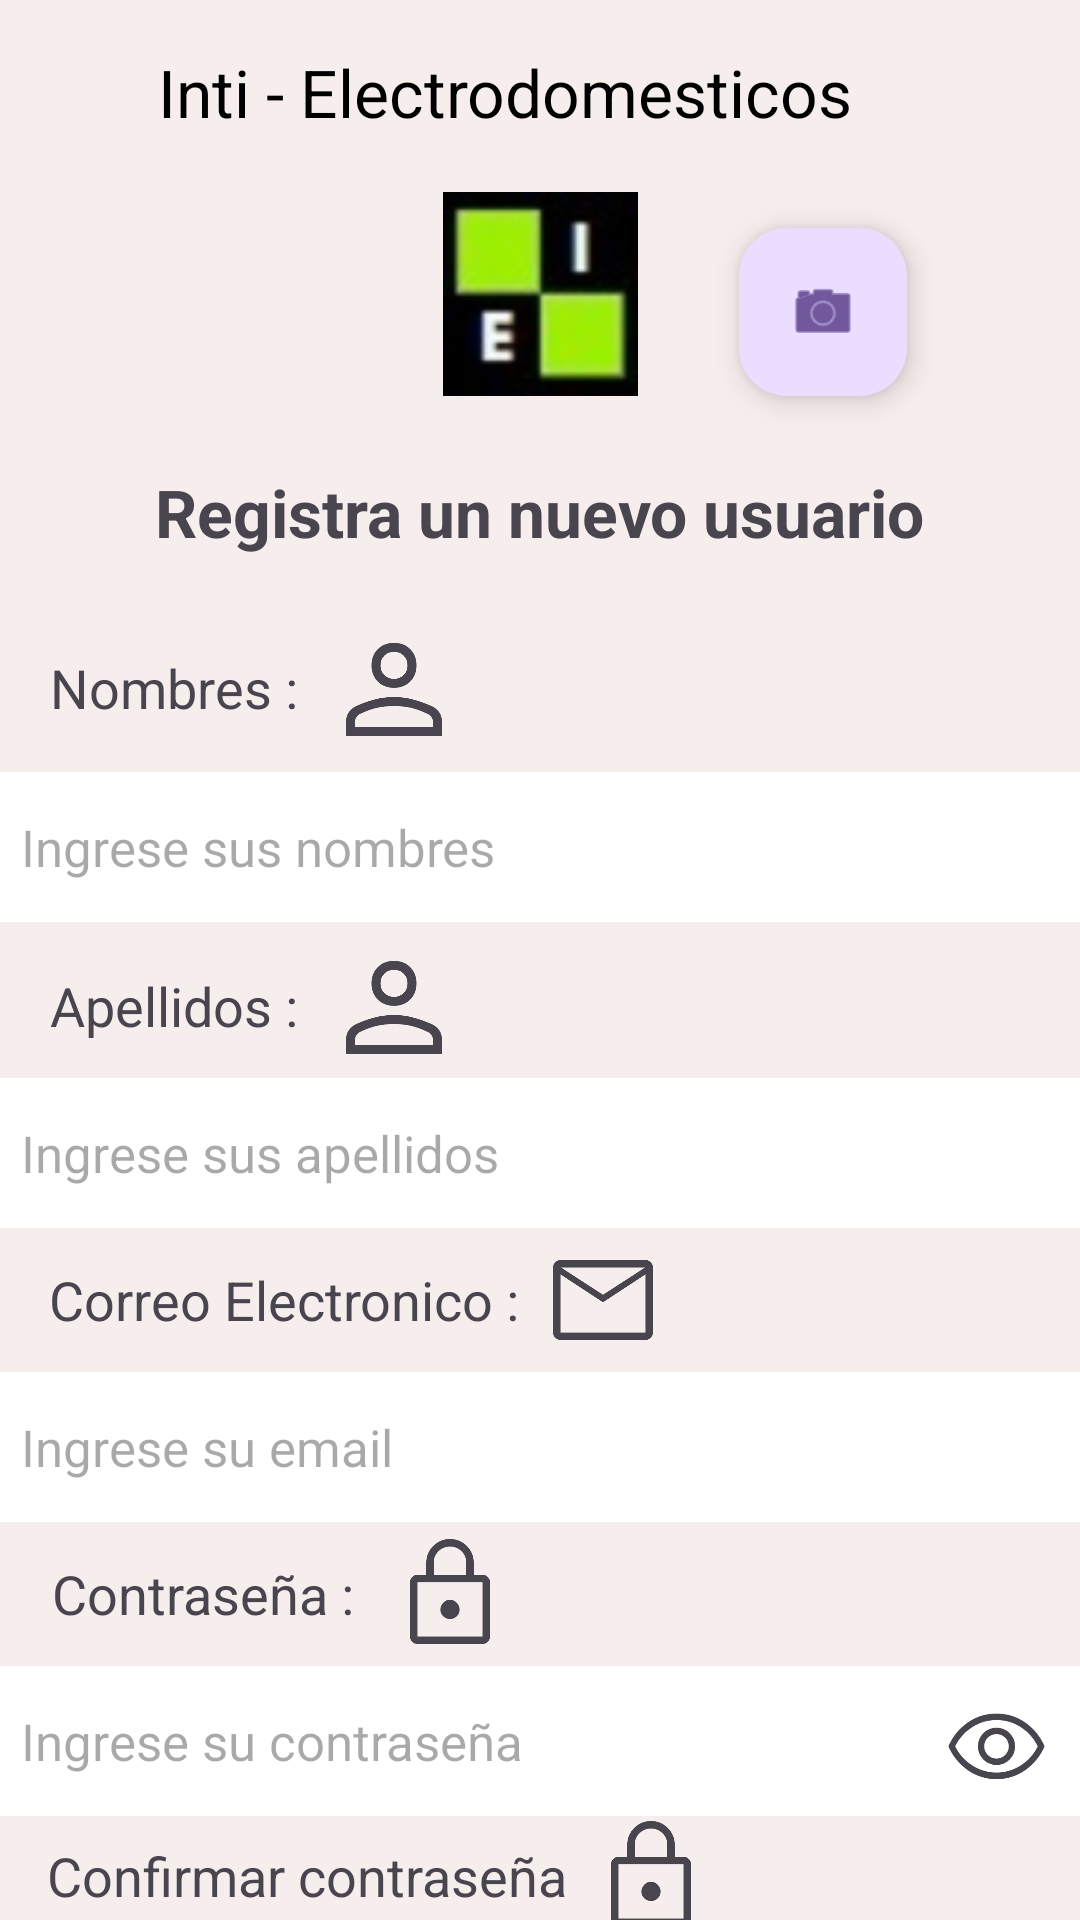

Icon bounding boxes for this 1080 x 1920 phone screenshot, format (x1, y1, x2, y2):
camera: (739, 228, 907, 396)
view: (948, 1713, 1045, 1779)
